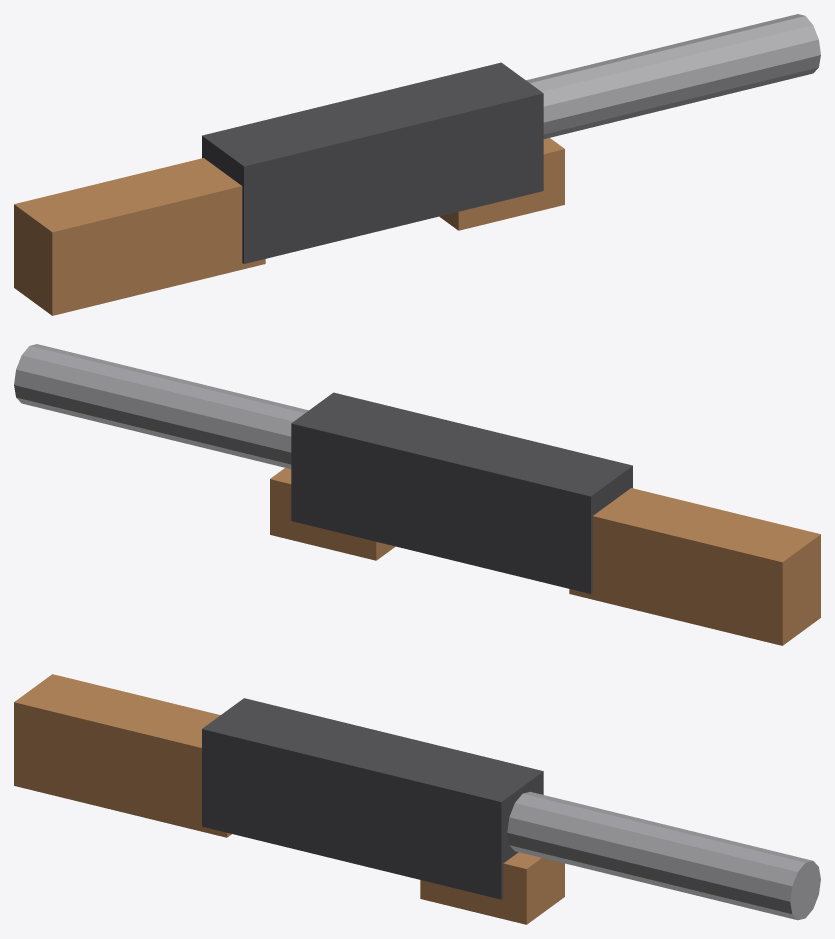
File: shotgun.glb
The picture shows the model from 3 angles, top to bottom: view 1: azimuth 30°, elevation 25°; view 2: azimuth 150°, elevation 25°; view 3: azimuth 330°, elevation 25°; orthographic projection.
Parts seen in each view (by area): view 1: shotgun; view 2: shotgun; view 3: shotgun.
Boxes of the visible parts, box(x1,y1,x2,y2) form: shotgun: box(14, 14, 820, 315); shotgun: box(14, 344, 820, 645); shotgun: box(14, 674, 820, 924).
Bounding box in the file's own units: 1.16 × 0.17 × 0.11.
